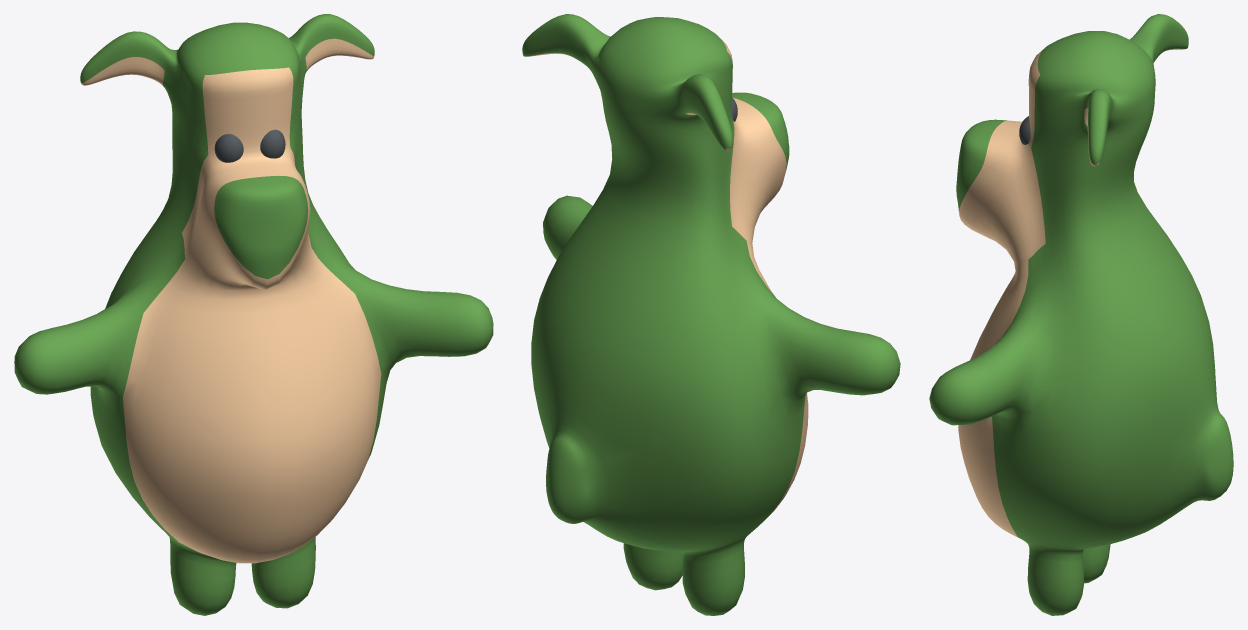
Rendered from ToyObject_073.fbx.
The picture shows the model from 3 angles, left to right: view 1: azimuth 30°, elevation 25°; view 2: azimuth 150°, elevation 25°; view 3: azimuth 270°, elevation 25°; orthographic projection. The views are drawn at different scales.
Parts seen in each view (by area): view 1: object-1.034; view 2: object-1.034; view 3: object-1.034.
Boxes of the visible parts, bbox=[...] form: object-1.034: bbox=[14, 14, 493, 615]; object-1.034: bbox=[522, 14, 900, 615]; object-1.034: bbox=[929, 14, 1233, 615].
Bounding box in the file's own units: 0.1313 × 0.1766 × 0.0865.
